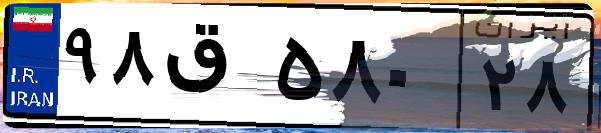0: (385, 28, 445, 110)
2: (475, 38, 525, 113)
5: (270, 28, 330, 110)
8: (330, 28, 385, 110), (525, 38, 570, 115), (110, 28, 158, 98)
9: (57, 26, 110, 100)
ق: (158, 20, 270, 120)
